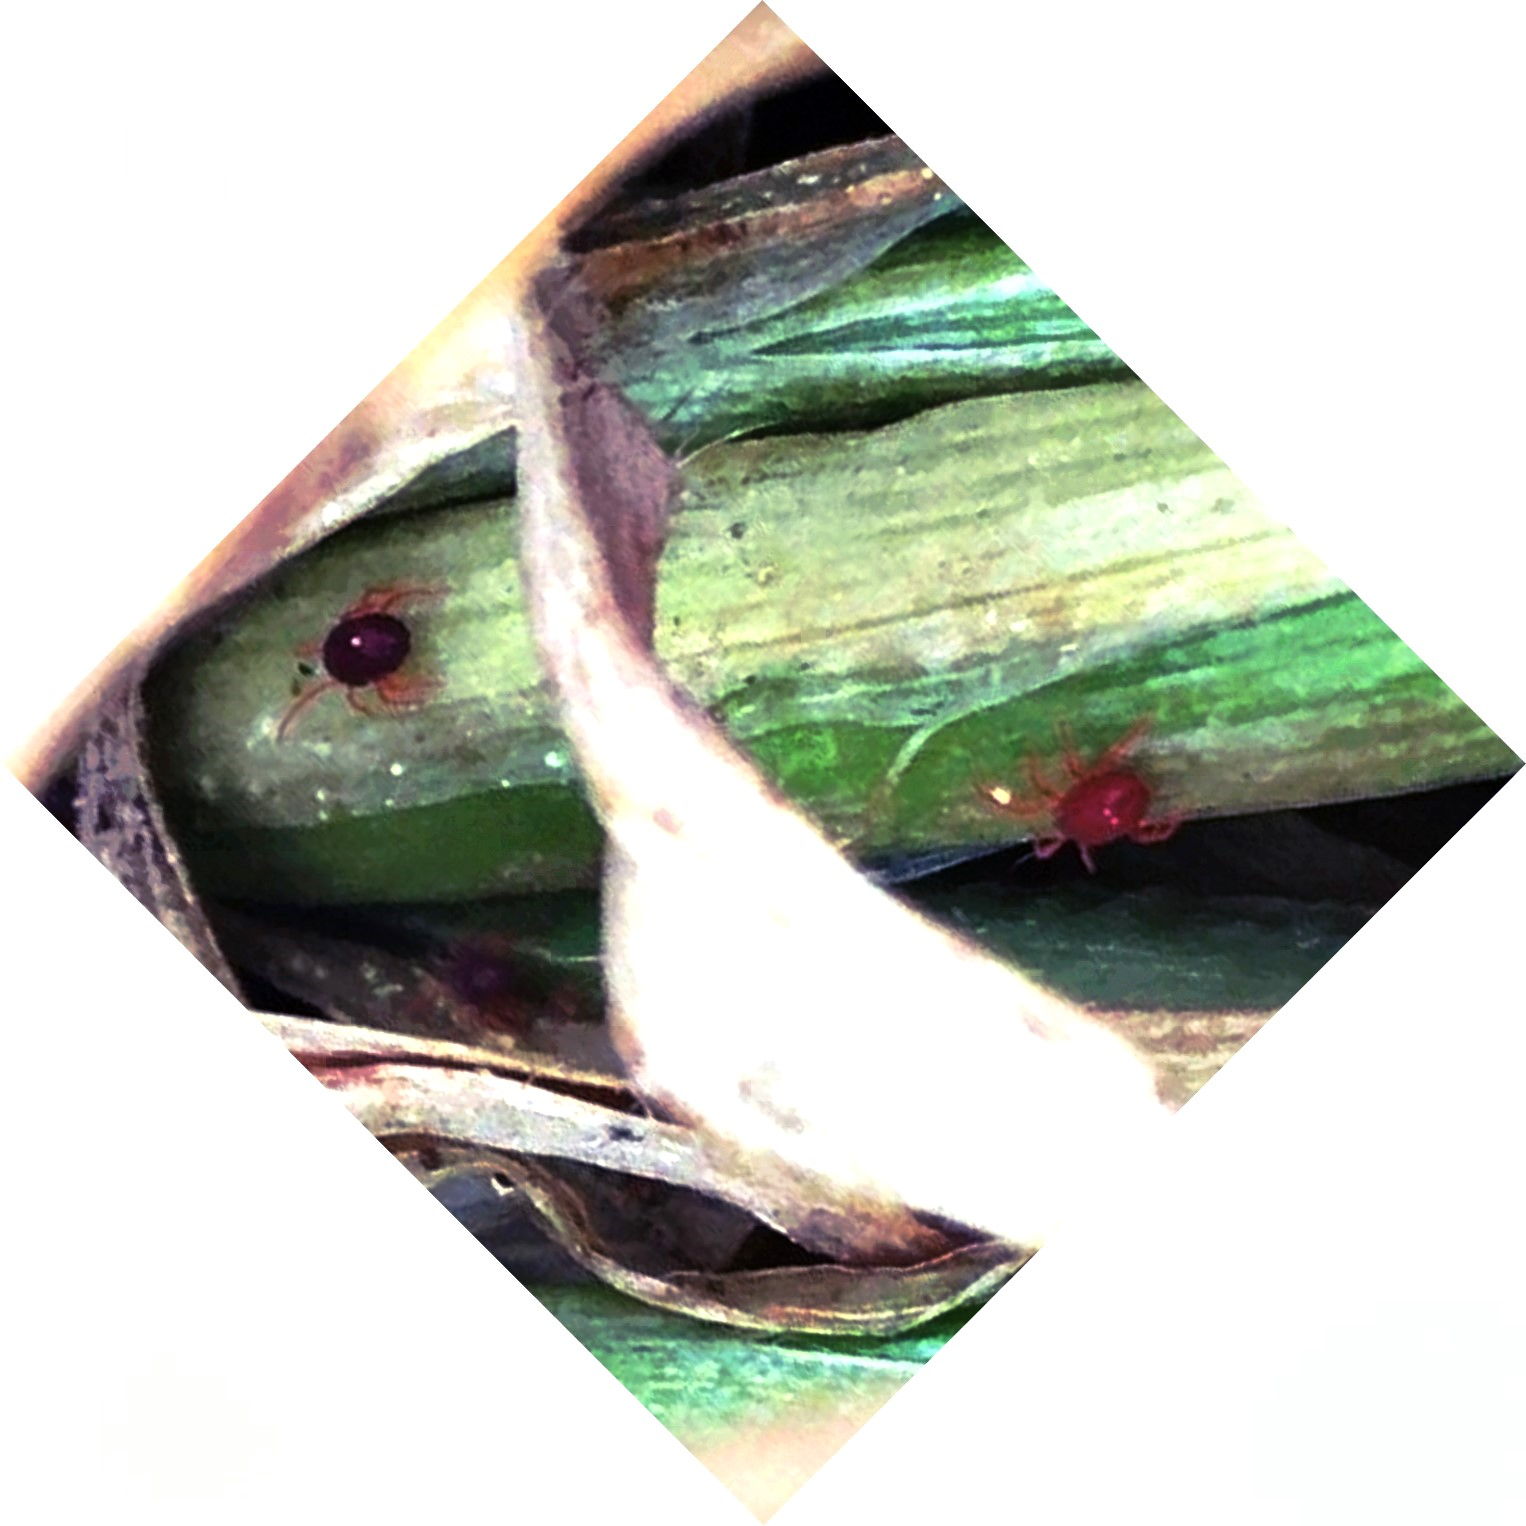Wheat Red Spider: (957, 707, 1216, 886)
